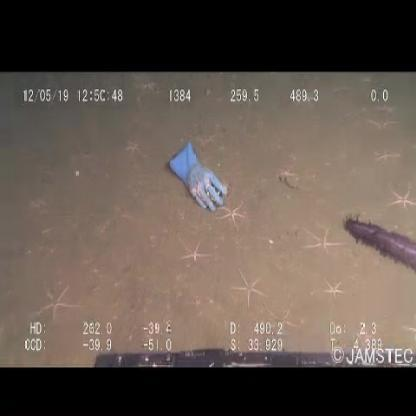Bio: (340, 210, 416, 273)
Rác: (161, 136, 230, 226)
